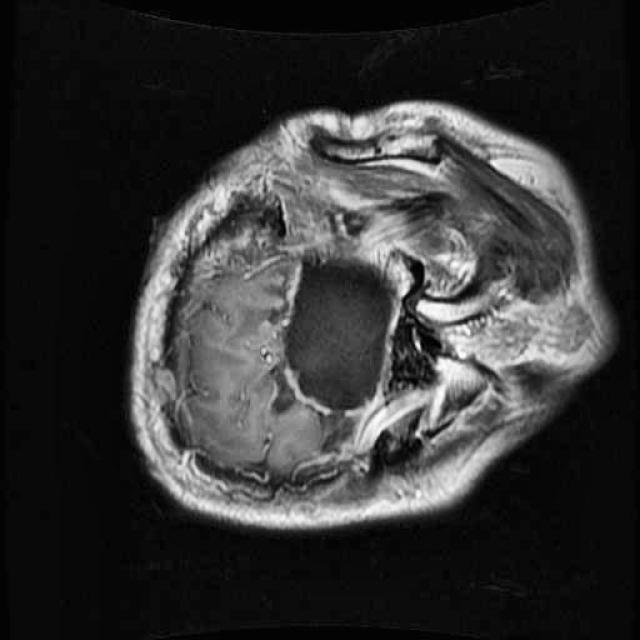Non-Tumor: (264, 230, 415, 439)
